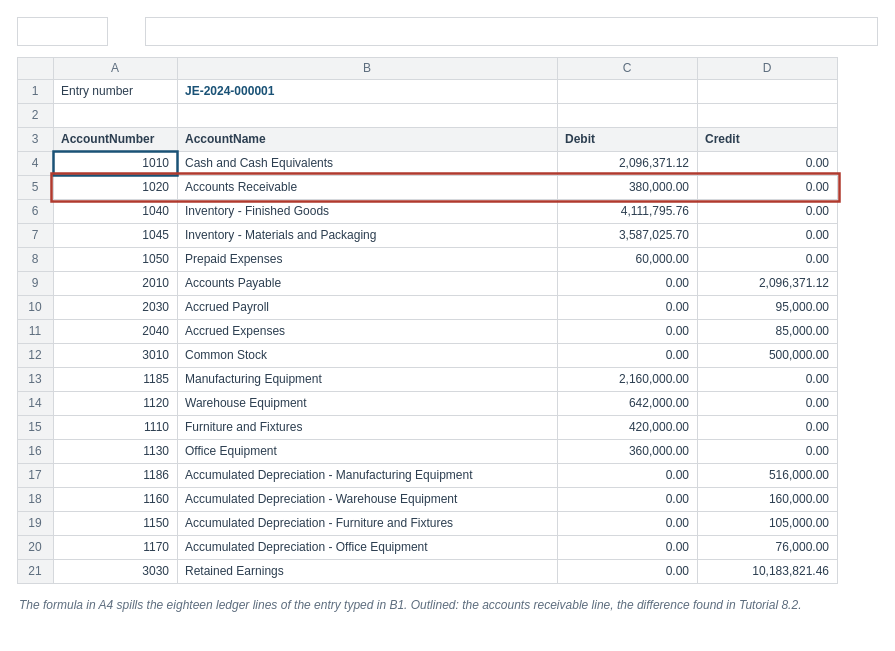
This 895x651 diagram has some shape labels left out. Here are the shapes that lost their labels. From the top down, the centre of each, then its label:
At point (62, 31): "A4".
At point (126, 31): "fx".
At point (511, 31): "=FILTER(JournalLines[[AccountNumber]:[Credit]],JournalLines[VoucherNumber]=B1)".
